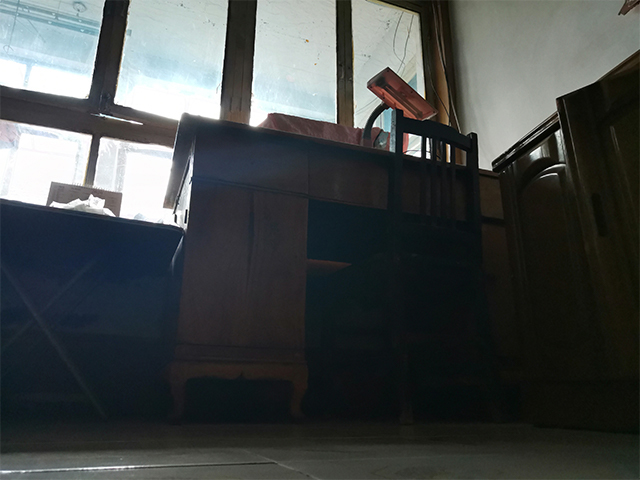cabinet: (159, 110, 516, 426), (490, 47, 640, 437)
stool: (318, 108, 492, 428)
table: (1, 197, 188, 426)
